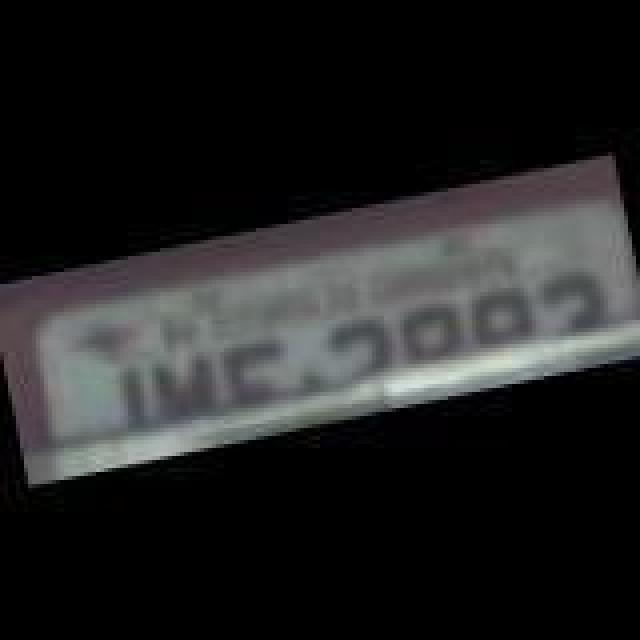2: (528, 256, 608, 336), (312, 304, 392, 384)
8: (396, 294, 468, 378), (468, 280, 540, 360)
F: (216, 336, 296, 416)
J: (68, 352, 156, 440)
M: (146, 348, 230, 428)
